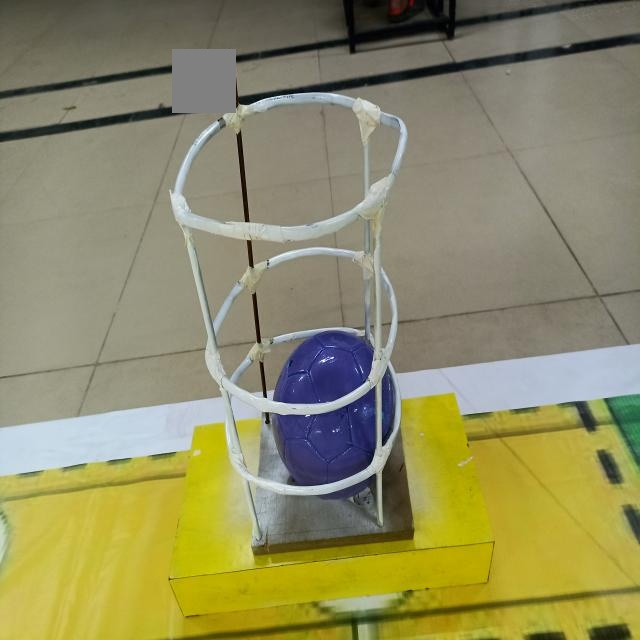purple_ball: (274, 328, 396, 492)
silo: (171, 78, 412, 541)
